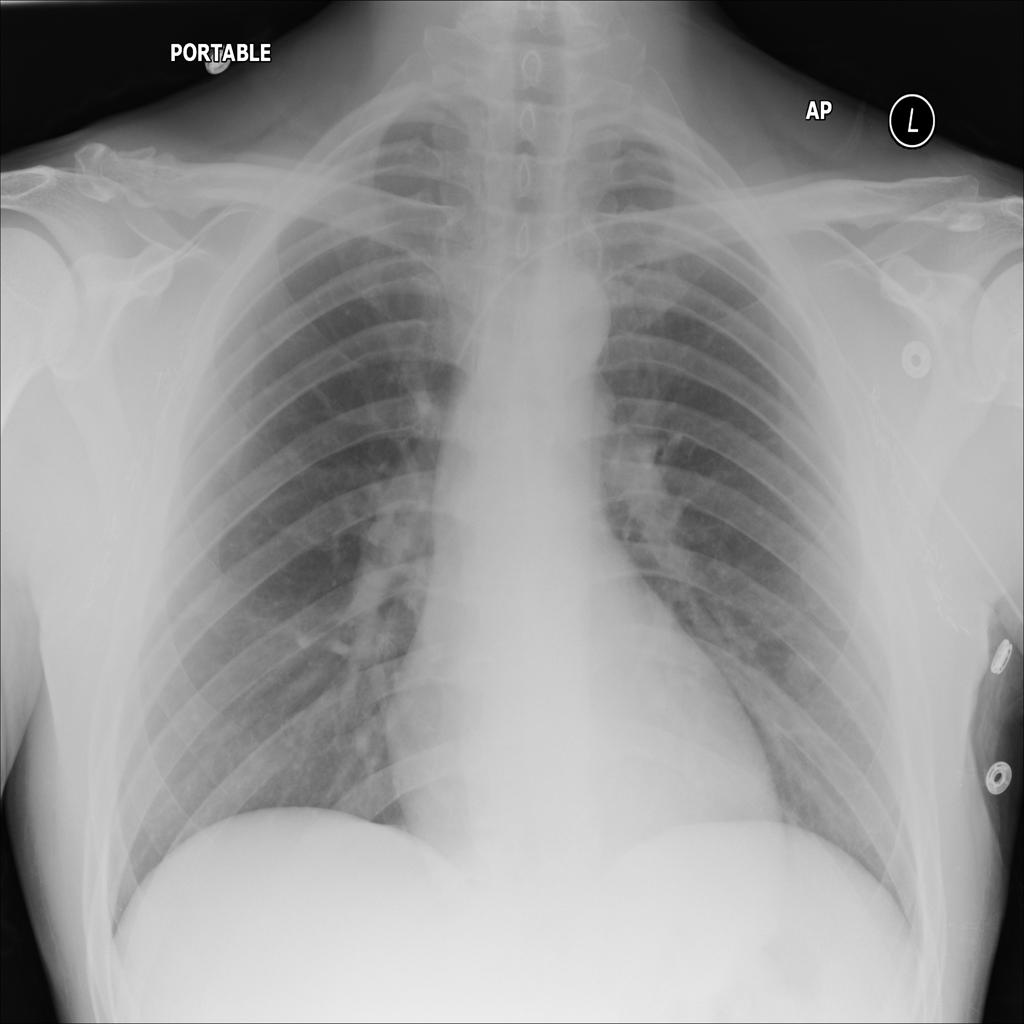nodule: (771, 628, 840, 704)
